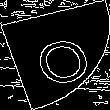O_N: (21, 25, 89, 85)
